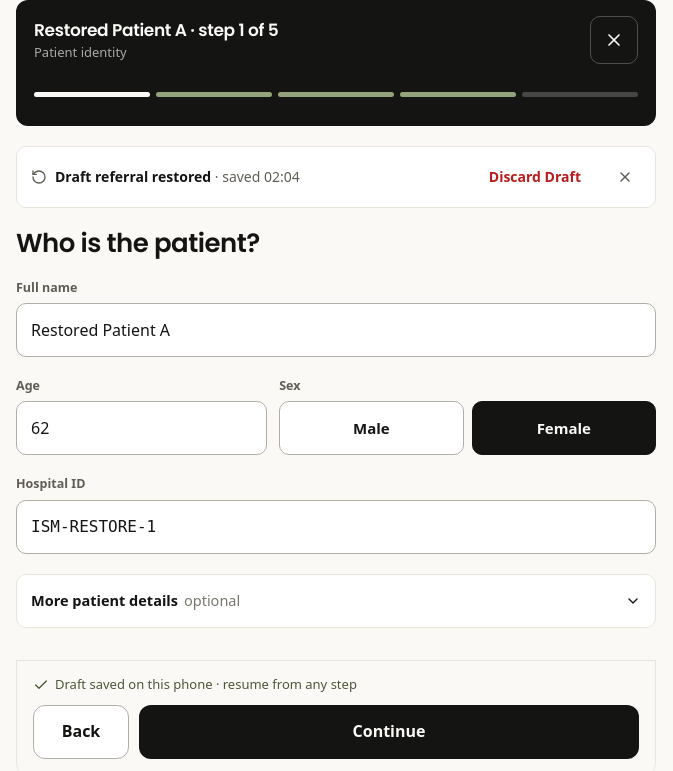
it: Empirical Challenge 2: Unified Referral Intake Wizard › 2. Draft Auto-Save, Session Restore & Discard Mechanics › restores draft on initial mount, displays DraftRestoreBanner, and populates form
The width and height of the screenshot is (673, 771).
Expected: the text "Draft referral restored" is shown, [55,167,211,186]
Expected: the field with id "hospitalId" holds "ISM-RESTORE-1", [16,500,656,554]
Click the button named "Step 5:" at (580, 94), box [522,70,638,118]
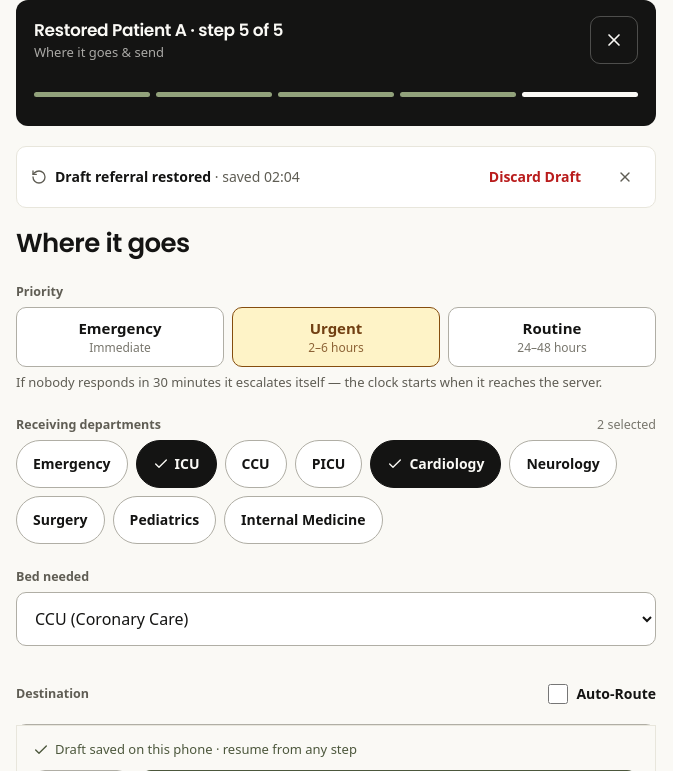
Expected: the dropdown with id "requiredBedType" shows "CCU (Coronary Care)", [16,592,656,646]
Expected: the radio button labelled "Urgent 2–6 hours" is checked, [232,307,440,367]
Click the button named "Step 2:" at (214, 94), box [156,70,272,118]
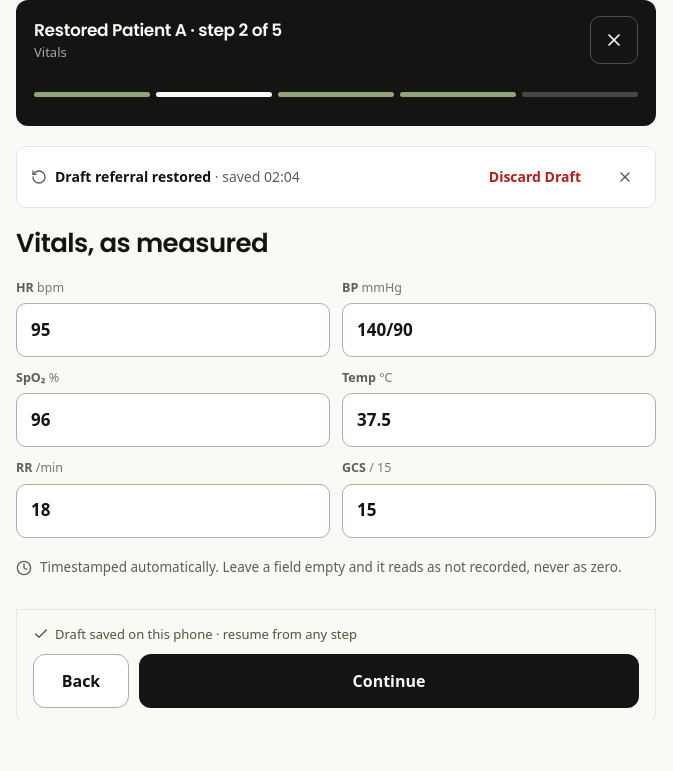
Expected: the number field labelled "HR bpm" holds "95", [16,303,330,357]
Expected: the field labelled "BP mmHg" holds "140/90", [342,303,656,357]
